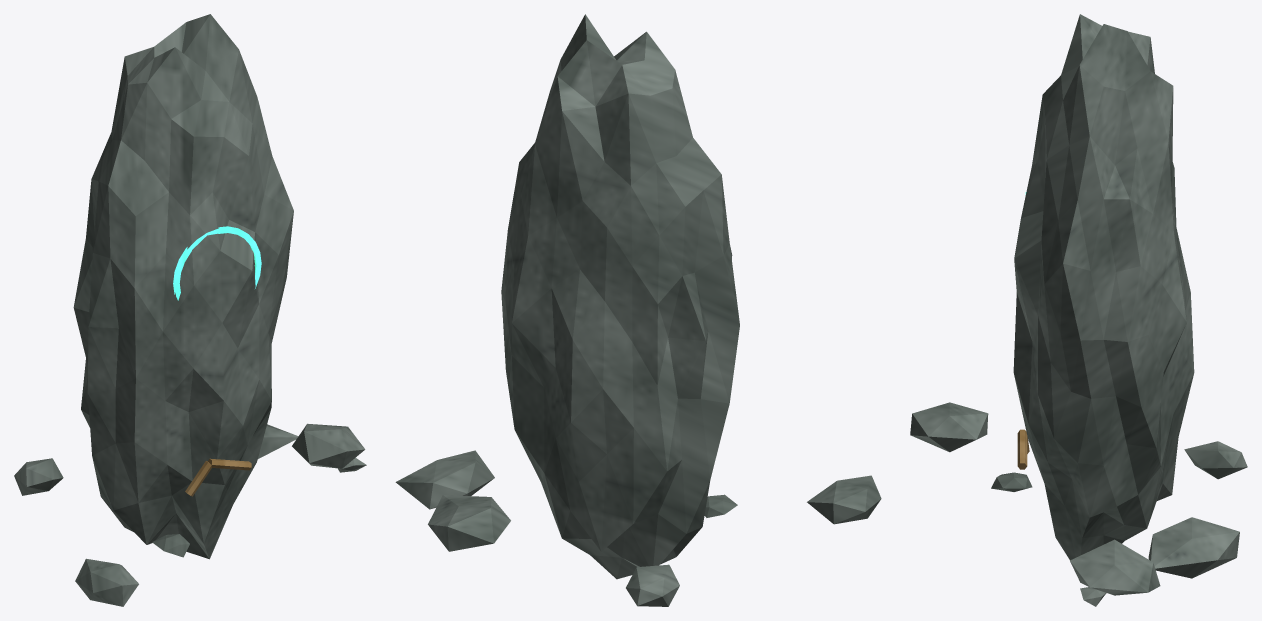
File: 0658_waystone_08.glb
3 views of the same model, side by side, from view 1: azimuth 30°, elevation 25°; view 2: azimuth 150°, elevation 25°; view 3: azimuth 270°, elevation 25° (orthographic). The views are drawn at different scales.
Parts seen in each view (by area): view 1: stone, glow, brass; view 2: stone; view 3: stone.
Part boxes in pixels (bbox=[...]): stone: bbox=[14, 14, 366, 606]; glow: bbox=[173, 226, 261, 300]; brass: bbox=[185, 458, 251, 496]; stone: bbox=[395, 14, 881, 606]; stone: bbox=[910, 14, 1247, 606].
Size of the model in its own units: 1.81 by 2.58 by 1.41.
3 materials, 3 textured.
